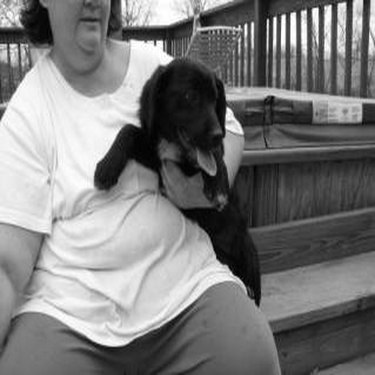dog: (88, 49, 272, 311)
